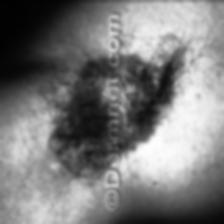Toxin: (118, 48, 154, 154), (68, 60, 106, 148)
